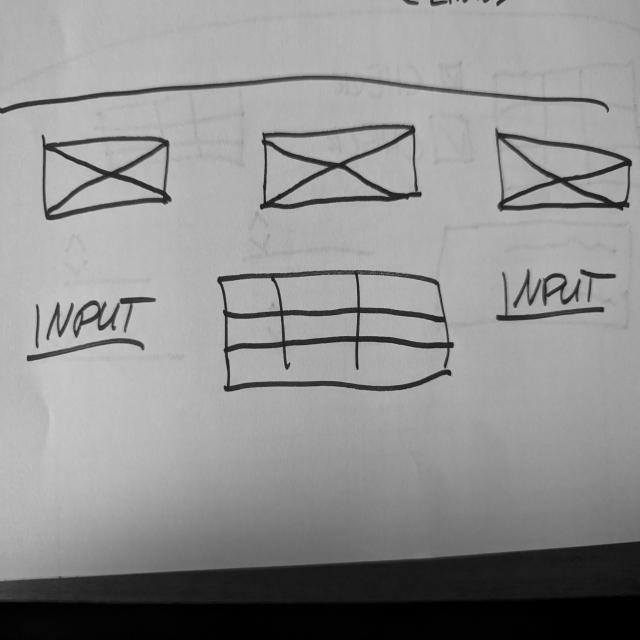image: (259, 122, 423, 216), (43, 135, 174, 226), (494, 131, 635, 214)
input: (21, 293, 161, 369), (492, 266, 619, 327)
table: (217, 268, 455, 395)
